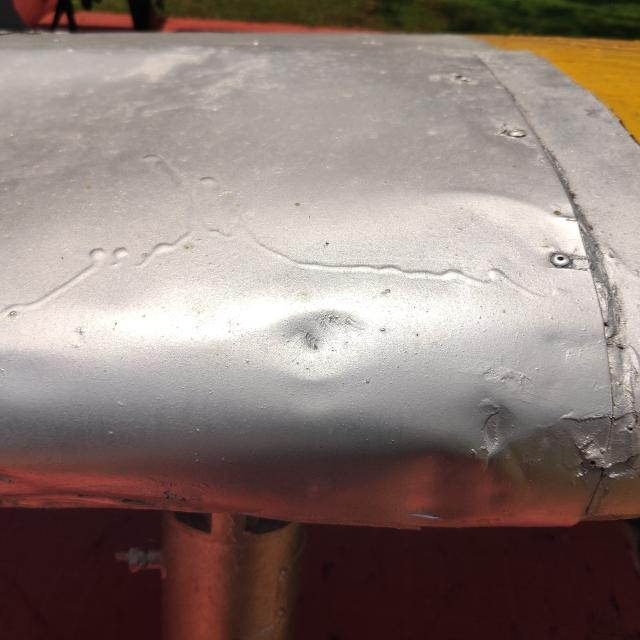Dent: (378, 382, 544, 548), (243, 275, 386, 412)
